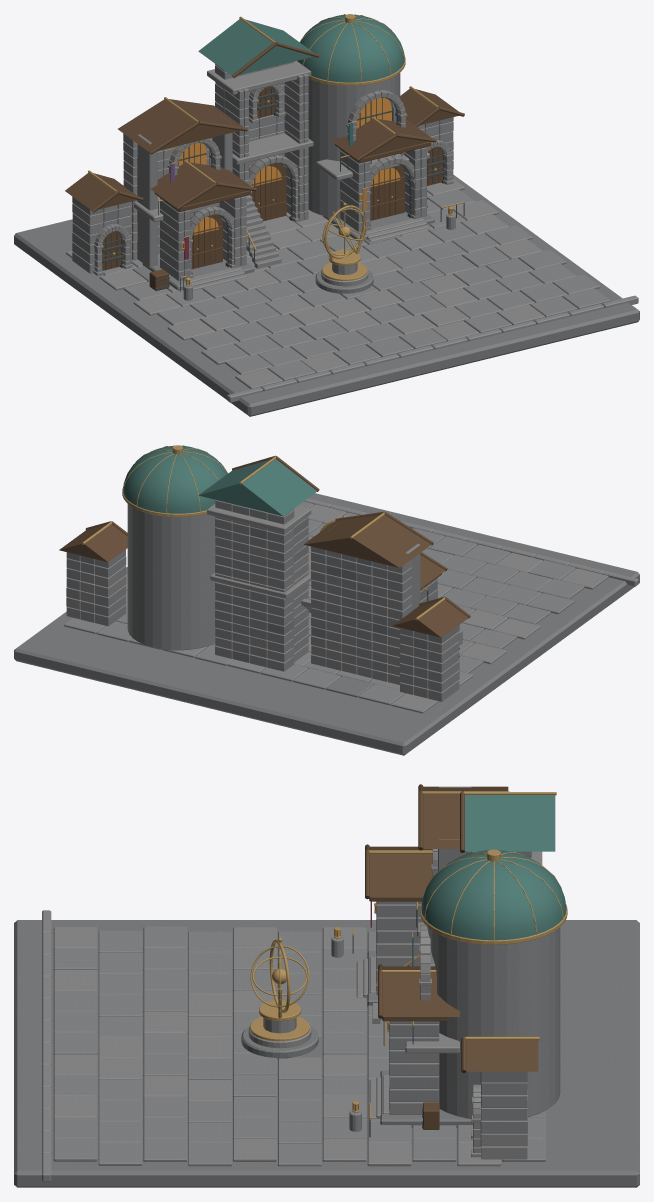
The model's file is arrival-court-v1.glb.
3 views of the same model, one above another, from view 1: azimuth 30°, elevation 25°; view 2: azimuth 150°, elevation 25°; view 3: azimuth 270°, elevation 25° (orthographic). The views are drawn at different scales.
Parts seen in each view (by area): view 1: architecture-stone_dusk, architecture-stone_worn, architecture-stone_shadow, architecture-oak_smoked, architecture-copper_patina, architecture-brass_aged, room-sourcing, room-rakuten, room-insurance, room-lottery, closed-planned-5, room-otoku (+2 smaller); view 2: architecture-stone_dusk, architecture-stone_shadow, architecture-stone_worn, architecture-copper_patina, architecture-oak_smoked, architecture-brass_aged; view 3: architecture-stone_dusk, architecture-stone_shadow, architecture-stone_worn, architecture-copper_patina, architecture-oak_smoked, architecture-brass_aged, room-lottery, closed-planned-6.
Boxes of the visible parts, x1,y1,x2,y2 form: architecture-stone_dusk: (72,61,610,380); architecture-stone_worn: (66,61,638,402); architecture-stone_shadow: (14,82,639,416); architecture-oak_smoked: (65,42,464,290); architecture-copper_patina: (198,14,404,82); architecture-brass_aged: (88,14,464,286); room-sourcing: (248,155,299,222); room-rakuten: (361,155,419,230); room-insurance: (183,206,238,278); room-lottery: (346,90,407,154); closed-planned-5: (93,224,132,275); room-otoku: (167,138,221,182); architecture-stone_dusk: (64,499,584,705); architecture-stone_shadow: (14,493,639,755); architecture-stone_worn: (66,498,638,713); architecture-copper_patina: (123,445,316,516); architecture-oak_smoked: (59,455,470,637); architecture-brass_aged: (82,445,460,629); architecture-stone_dusk: (53,786,560,1166); architecture-stone_shadow: (14,902,639,1187); architecture-stone_worn: (42,851,542,1181); architecture-copper_patina: (421,795,566,940); architecture-oak_smoked: (365,784,538,1129); architecture-brass_aged: (250,791,567,1119); room-lottery: (411,924,431,1000); closed-planned-6: (471,1084,481,1157).
Size of the model in its own units: 23.97 by 11.46 by 24.
12 materials, 3 textured.
